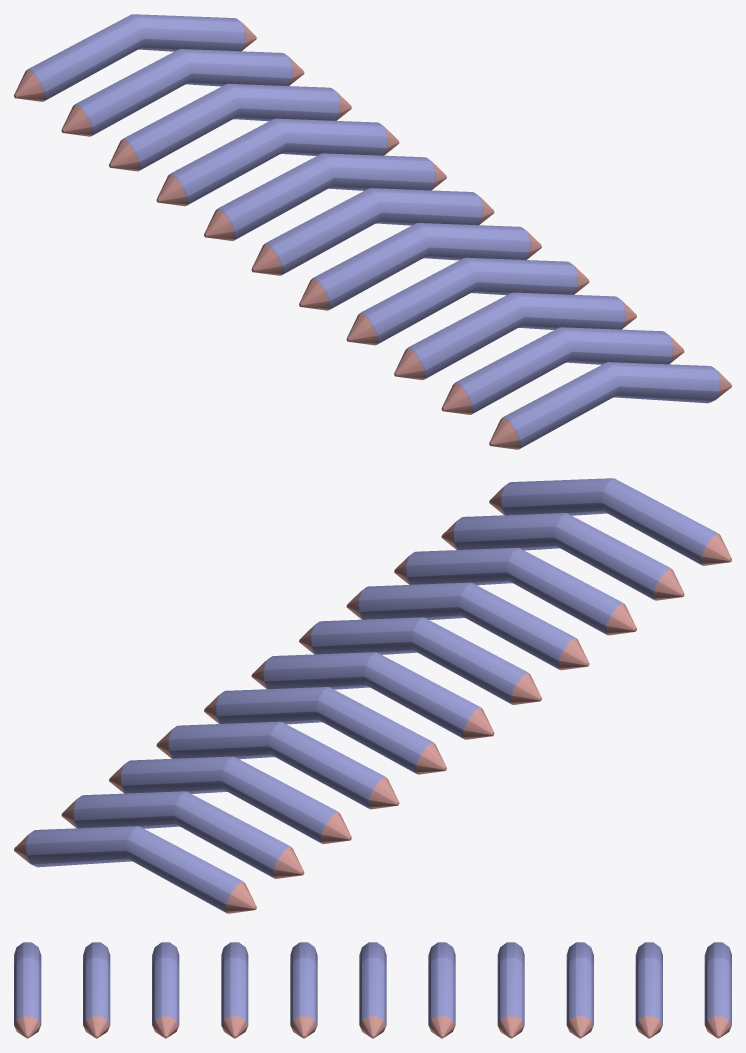
File: SM_Wall01_WoodNails.FBX
The picture shows the model from 3 angles, top to bottom: view 1: azimuth 30°, elevation 25°; view 2: azimuth 150°, elevation 25°; view 3: azimuth 270°, elevation 25°; orthographic projection. The views are drawn at different scales.
Visible parts, largest first — view 1: Line034; view 2: Line034; view 3: Line034.
Part boxes in pixels (x1,y1,x2,y2): Line034: [14, 14, 731, 449]; Line034: [14, 478, 731, 913]; Line034: [14, 942, 731, 1038].
Size of the model in its own units: 54.11 by 12.91 by 192.
